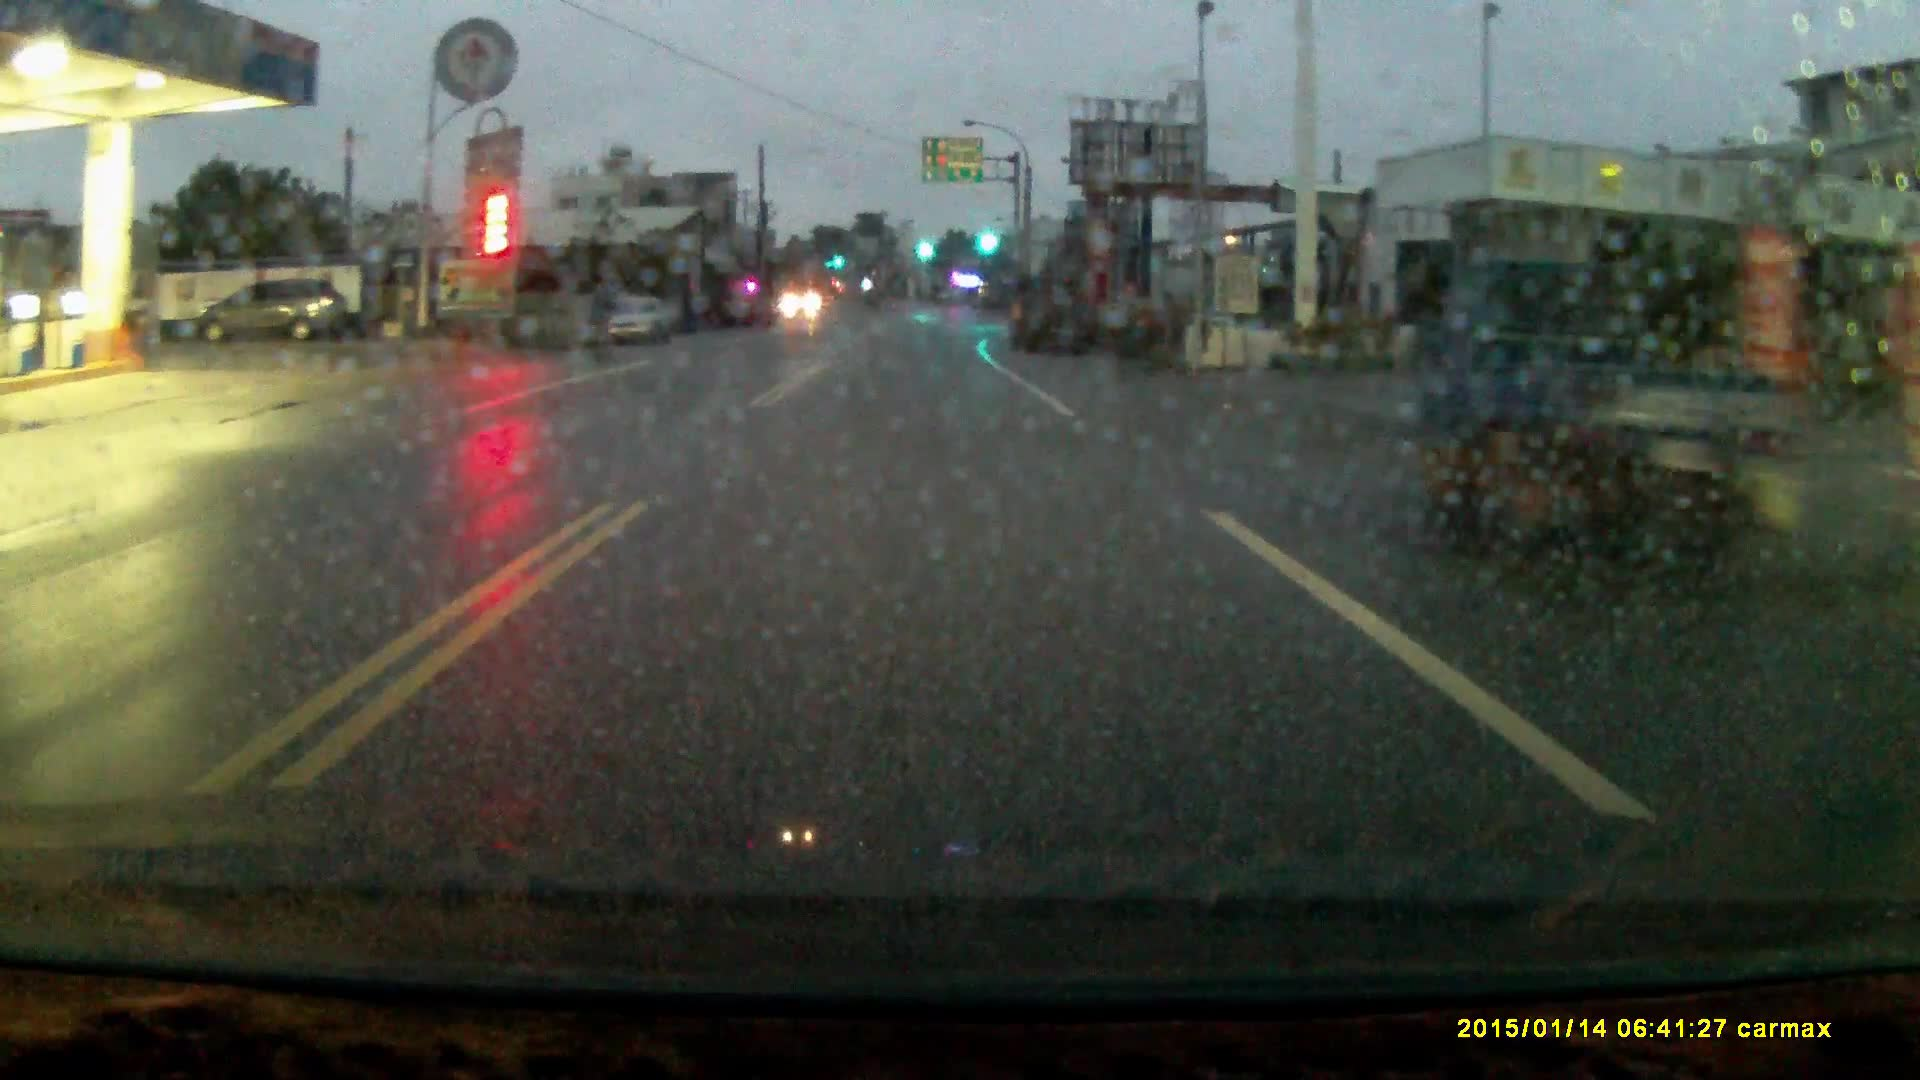rider: (581, 262, 625, 366)
vehicle: (1505, 264, 1709, 539), (192, 282, 351, 345), (1008, 268, 1103, 358), (598, 300, 691, 352)
